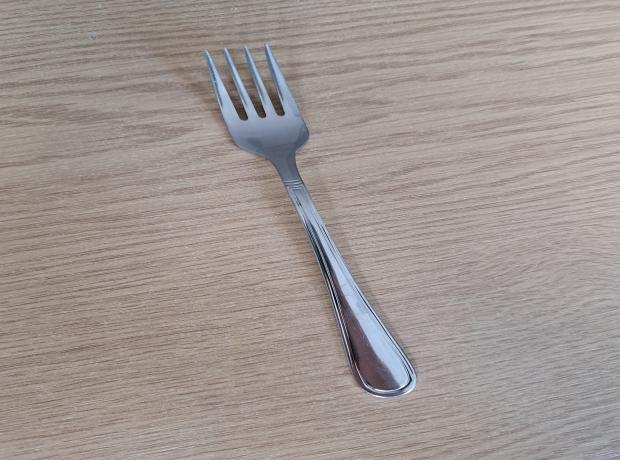metal: (203, 41, 422, 400)
